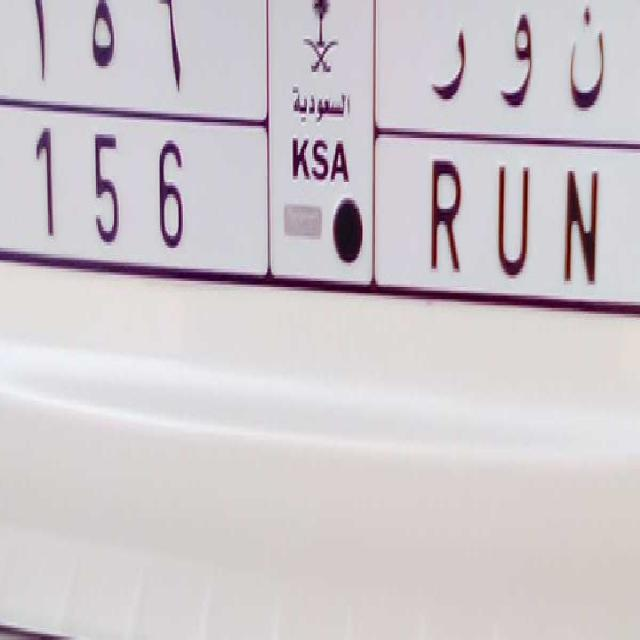license_plate: (22, 108, 620, 322)
